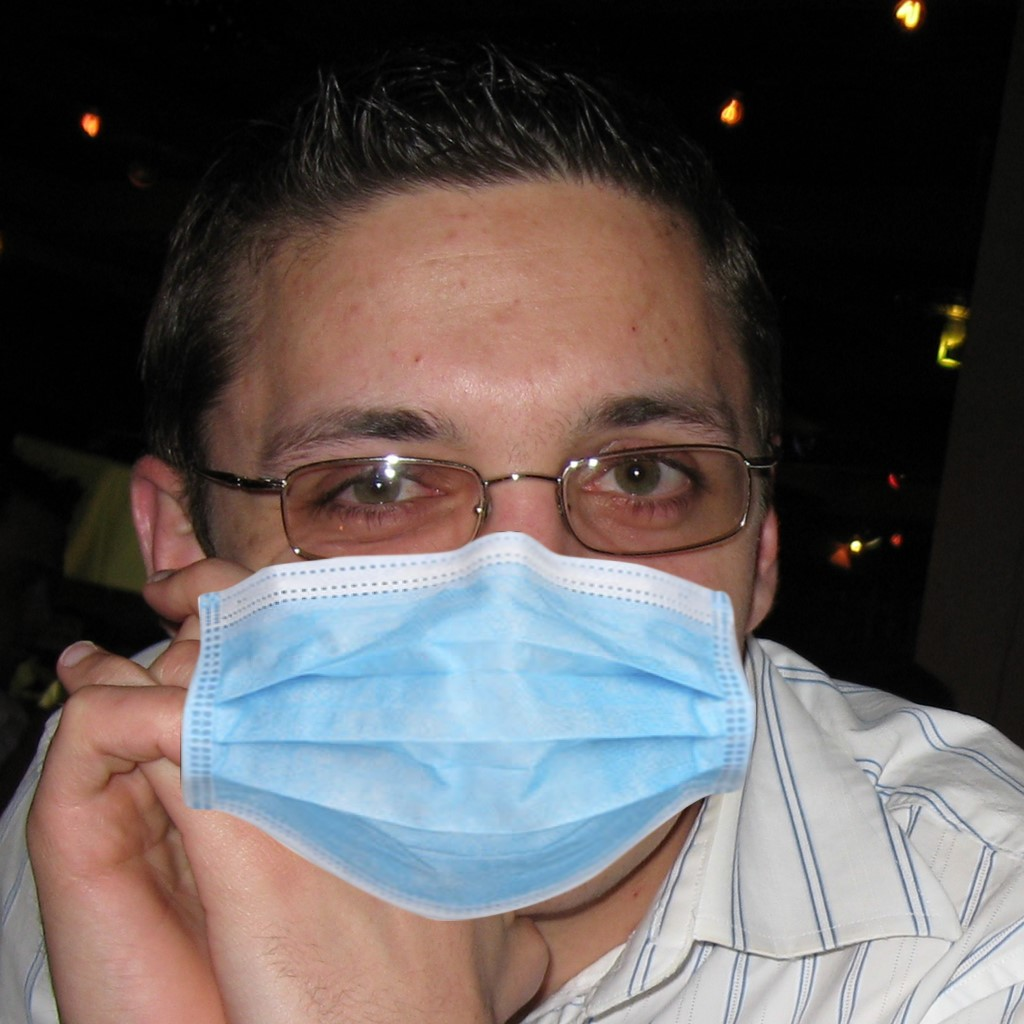con_mascara: (207, 169, 776, 875)
